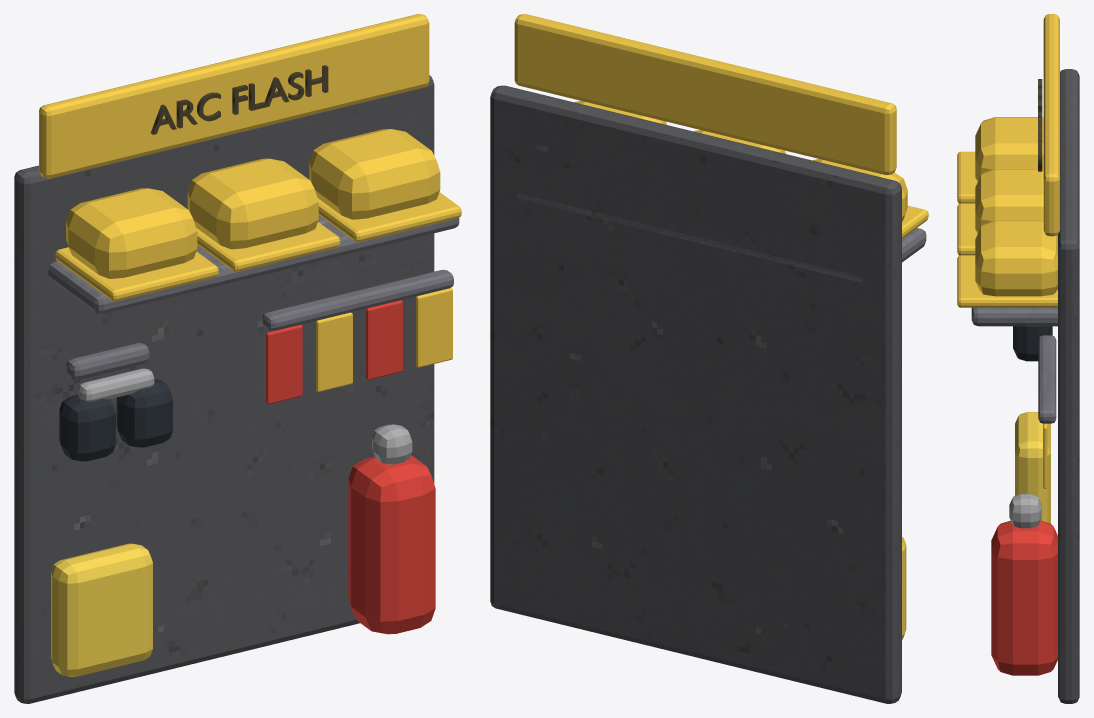
The model's file is decor_eng_safety_station.glb.
The picture shows the model from 3 angles, left to right: view 1: azimuth 30°, elevation 25°; view 2: azimuth 150°, elevation 25°; view 3: azimuth 270°, elevation 25°; orthographic projection. The views are drawn at different scales.
Parts seen in each view (by area): view 1: DEC_EngSafetyStation__Back_Plate, DEC_EngSafetyStation__Hazard_Header, DEC_EngSafetyStation__Extinguisher_Body, DEC_EngSafetyStation__Insulated_Gloves, DEC_EngSafetyStation__Hard_Hat_1, DEC_EngSafetyStation__Hard_Hat_2, DEC_EngSafetyStation__Hard_Hat_3, DEC_EngSafetyStation__Hat_Shelf, DEC_EngSafetyStation__Tag_Rail, DEC_EngSafetyStation__Hard_Hat_Brim_1, DEC_EngSafetyStation__Ear_Defender_L, DEC_EngSafetyStation__Ear_Defender_R (+10 smaller); view 2: DEC_EngSafetyStation__Back_Plate, DEC_EngSafetyStation__Hazard_Header, DEC_EngSafetyStation__Hat_Shelf; view 3: DEC_EngSafetyStation__Back_Plate, DEC_EngSafetyStation__Extinguisher_Body, DEC_EngSafetyStation__Hard_Hat_3, DEC_EngSafetyStation__Hazard_Header, DEC_EngSafetyStation__Hard_Hat_2, DEC_EngSafetyStation__Hard_Hat_1, DEC_EngSafetyStation__Insulated_Gloves, DEC_EngSafetyStation__Hard_Hat_Brim_3, DEC_EngSafetyStation__Hat_Shelf, DEC_EngSafetyStation__Tag_Rail, DEC_EngSafetyStation__Ear_Defender_R, DEC_EngSafetyStation__Extinguisher_Neck (+4 smaller).
Part boxes in pixels (x1=…): DEC_EngSafetyStation__Back_Plate: x1=14, y1=75, x2=434, y2=703; DEC_EngSafetyStation__Hazard_Header: x1=39, y1=14, x2=429, y2=178; DEC_EngSafetyStation__Extinguisher_Body: x1=348, y1=455, x2=435, y2=634; DEC_EngSafetyStation__Insulated_Gloves: x1=51, y1=543, x2=152, y2=676; DEC_EngSafetyStation__Hard_Hat_1: x1=66, y1=188, x2=197, y2=278; DEC_EngSafetyStation__Hard_Hat_2: x1=187, y1=158, x2=318, y2=249; DEC_EngSafetyStation__Hard_Hat_3: x1=309, y1=129, x2=440, y2=219; DEC_EngSafetyStation__Hat_Shelf: x1=48, y1=215, x2=459, y2=314; DEC_EngSafetyStation__Tag_Rail: x1=262, y1=269, x2=453, y2=330; DEC_EngSafetyStation__Hard_Hat_Brim_1: x1=55, y1=247, x2=218, y2=301; DEC_EngSafetyStation__Ear_Defender_L: x1=59, y1=394, x2=115, y2=461; DEC_EngSafetyStation__Ear_Defender_R: x1=116, y1=379, x2=172, y2=447; DEC_EngSafetyStation__Back_Plate: x1=490, y1=85, x2=901, y2=703; DEC_EngSafetyStation__Hazard_Header: x1=514, y1=14, x2=896, y2=175; DEC_EngSafetyStation__Hat_Shelf: x1=517, y1=193, x2=926, y2=282; DEC_EngSafetyStation__Back_Plate: x1=1058, y1=69, x2=1079, y2=703; DEC_EngSafetyStation__Extinguisher_Body: x1=991, y1=520, x2=1057, y2=675; DEC_EngSafetyStation__Hard_Hat_3: x1=975, y1=220, x2=1057, y2=296; DEC_EngSafetyStation__Hazard_Header: x1=1043, y1=14, x2=1059, y2=236; DEC_EngSafetyStation__Hard_Hat_2: x1=975, y1=169, x2=1043, y2=233; DEC_EngSafetyStation__Hard_Hat_1: x1=975, y1=117, x2=1043, y2=181; DEC_EngSafetyStation__Insulated_Gloves: x1=1015, y1=412, x2=1050, y2=523; DEC_EngSafetyStation__Hard_Hat_Brim_3: x1=957, y1=255, x2=1057, y2=307; DEC_EngSafetyStation__Hat_Shelf: x1=971, y1=307, x2=1057, y2=326; DEC_EngSafetyStation__Tag_Rail: x1=1038, y1=335, x2=1056, y2=423; DEC_EngSafetyStation__Ear_Defender_R: x1=1013, y1=326, x2=1052, y2=361; DEC_EngSafetyStation__Extinguisher_Neck: x1=1009, y1=494, x2=1041, y2=528.
Bounding box in the file's own units: 1.18 × 1.61 × 0.34.
8 materials, 3 textured.
